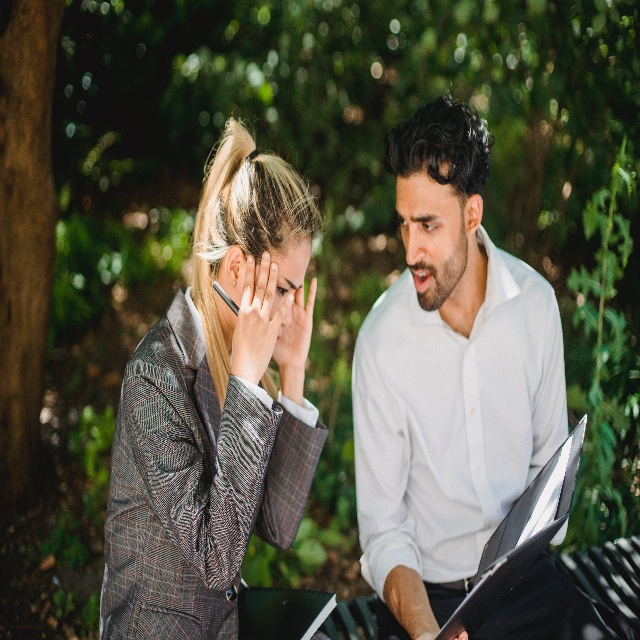Sin_guantes: (231, 254, 292, 376), (271, 274, 319, 375)
